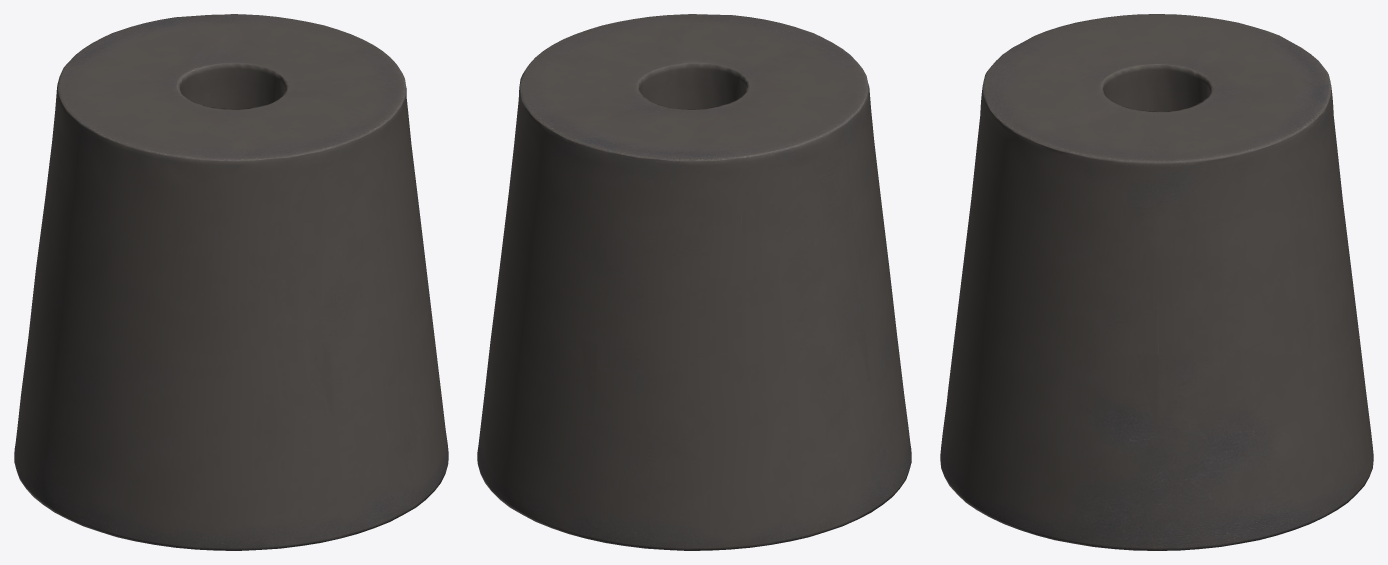
Rendered from selected.glb.
The picture shows the model from 3 angles, left to right: view 1: azimuth 30°, elevation 25°; view 2: azimuth 150°, elevation 25°; view 3: azimuth 270°, elevation 25°; orthographic projection.
Visible parts, largest first — view 1: tripo_node_a55e8ba9-2439-41c6-8594-9779071d8c19; view 2: tripo_node_a55e8ba9-2439-41c6-8594-9779071d8c19; view 3: tripo_node_a55e8ba9-2439-41c6-8594-9779071d8c19.
Part boxes in pixels (x1,y1,x2,y2): tripo_node_a55e8ba9-2439-41c6-8594-9779071d8c19: [14, 14, 448, 550]; tripo_node_a55e8ba9-2439-41c6-8594-9779071d8c19: [477, 14, 911, 550]; tripo_node_a55e8ba9-2439-41c6-8594-9779071d8c19: [940, 14, 1373, 550].
Bounding box in the file's own units: 0.998 × 0.9512 × 0.998.
Materials: 1 (1 with a texture image).
